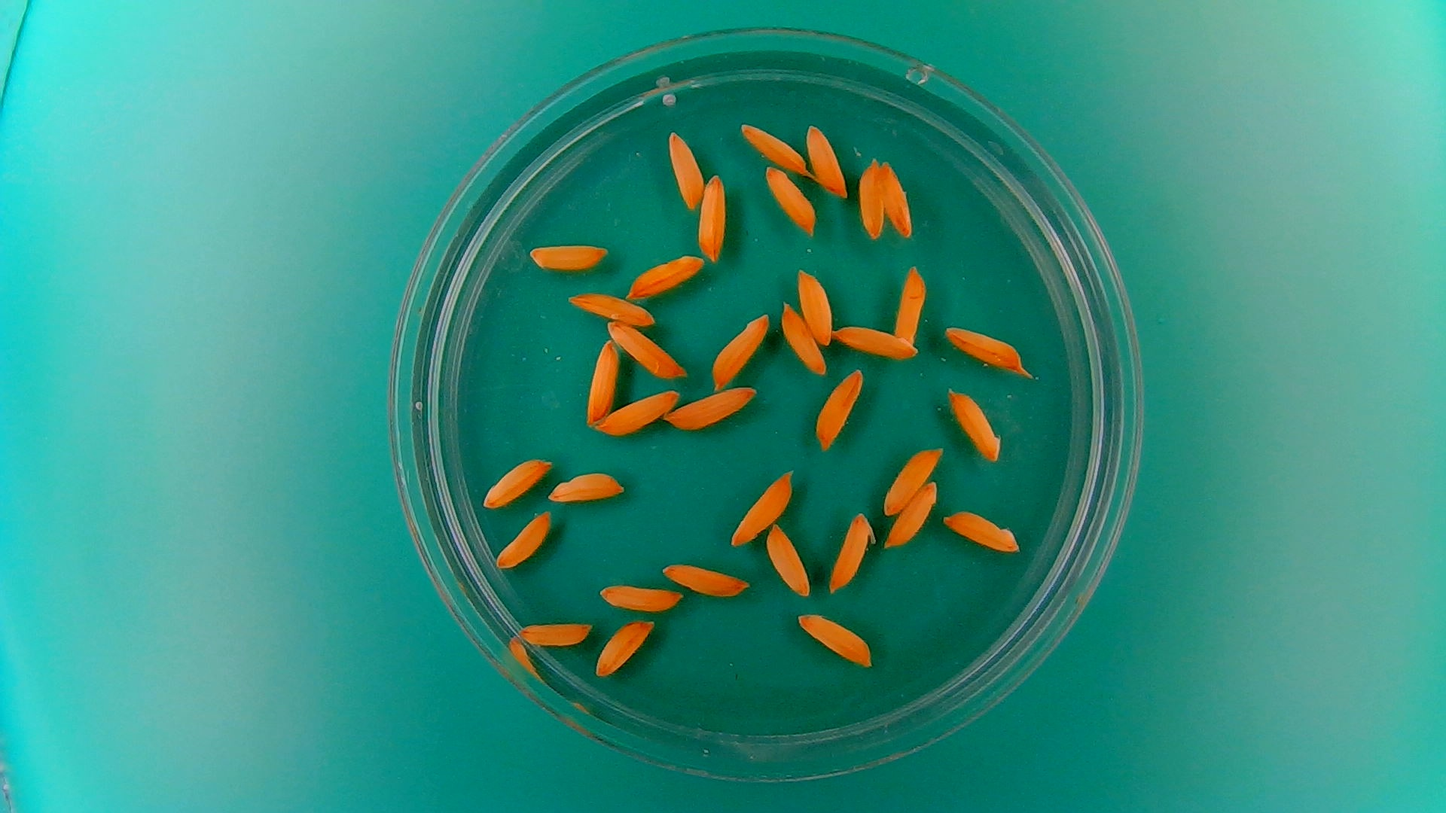no: (813, 505, 882, 598), (729, 469, 794, 549), (941, 322, 1035, 376), (794, 609, 876, 668), (710, 309, 771, 388), (606, 321, 687, 379), (947, 385, 1005, 463), (813, 367, 865, 452), (880, 445, 943, 513), (667, 385, 760, 431), (594, 388, 682, 436), (883, 478, 940, 550), (737, 119, 810, 175), (592, 616, 657, 678), (763, 163, 818, 236), (480, 455, 552, 510), (941, 508, 1023, 555), (493, 507, 553, 571), (626, 252, 706, 299), (658, 558, 751, 598), (765, 520, 812, 599), (779, 300, 827, 376), (804, 121, 850, 199), (566, 290, 658, 327), (666, 127, 706, 210), (833, 322, 920, 360), (796, 266, 836, 348), (584, 336, 619, 426), (876, 158, 914, 239), (596, 580, 684, 613), (547, 468, 626, 504), (526, 240, 610, 273), (697, 171, 727, 263), (894, 263, 928, 344), (856, 155, 888, 241), (517, 618, 593, 649)
